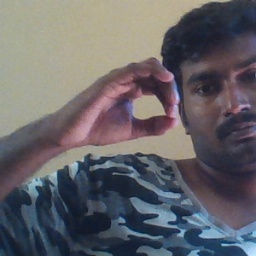O: (65, 55, 181, 150)
